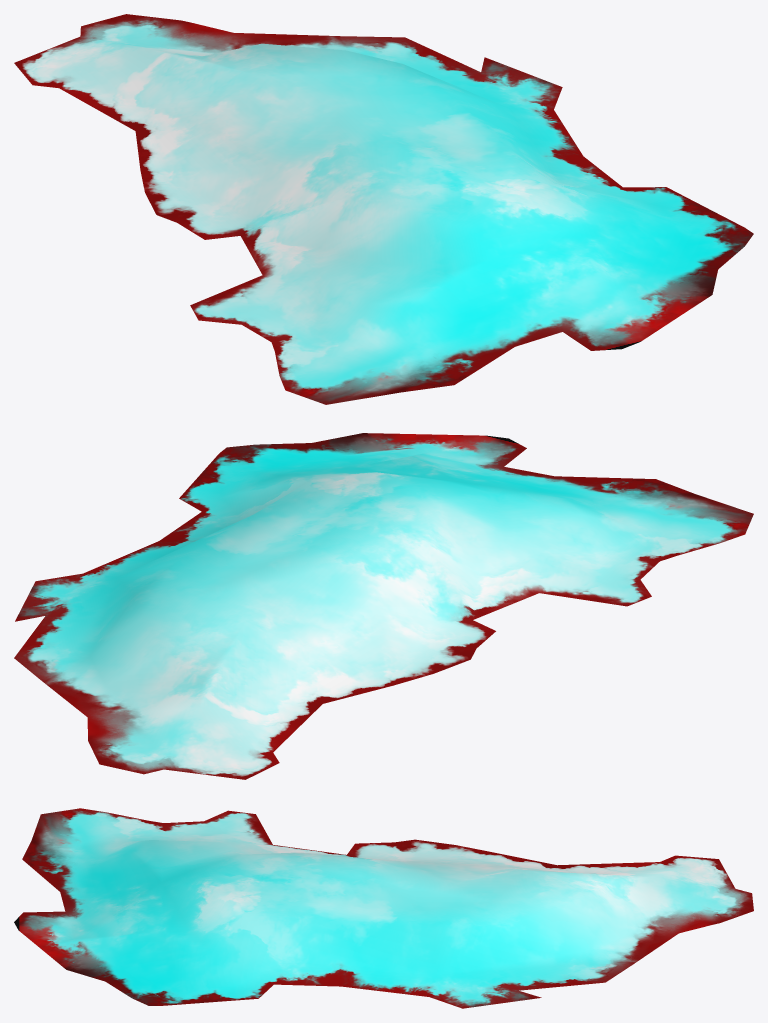
The model's file is Mesh_QuantumMetaCloud_4.FBX.
The picture shows the model from 3 angles, top to bottom: view 1: azimuth 30°, elevation 25°; view 2: azimuth 150°, elevation 25°; view 3: azimuth 270°, elevation 25°; orthographic projection. The views are drawn at different scales.
Visible parts, largest first — view 1: Mesh_QuantumMetaCloud_4; view 2: Mesh_QuantumMetaCloud_4; view 3: Mesh_QuantumMetaCloud_4.
Boxes of the visible parts, box(x1,y1,x2,y2) form: Mesh_QuantumMetaCloud_4: box(14, 14, 753, 404); Mesh_QuantumMetaCloud_4: box(14, 433, 753, 779); Mesh_QuantumMetaCloud_4: box(14, 808, 753, 1008).
Size of the model in its own units: 485 by 757 by 46.11.
